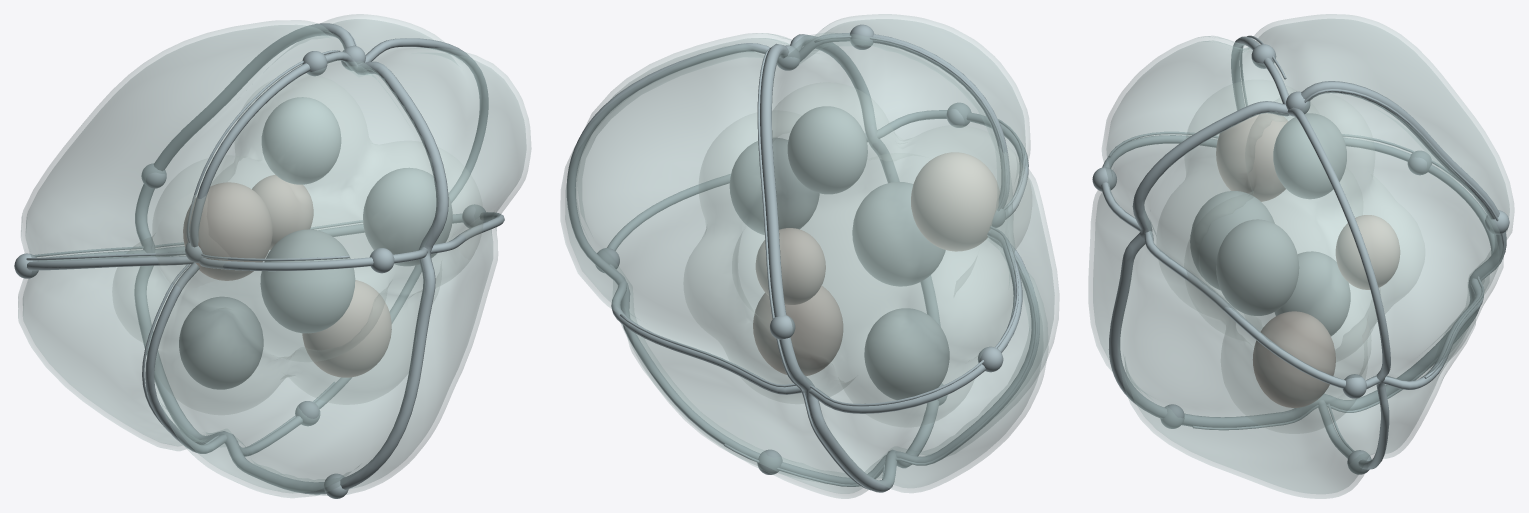
Rendered from pod_01.glb.
The picture shows the model from 3 angles, left to right: view 1: azimuth 30°, elevation 25°; view 2: azimuth 150°, elevation 25°; view 3: azimuth 270°, elevation 25°; orthographic projection. The views are drawn at different scales.
Visible parts, largest first — view 1: BZ_Pressure_Body, BZ_Continuous_Encapsulating_Tissue, BZ_Restraining_Loop_0; view 2: BZ_Pressure_Body, BZ_Continuous_Encapsulating_Tissue, BZ_Restraining_Loop_0; view 3: BZ_Pressure_Body, BZ_Restraining_Loop_0, BZ_Continuous_Encapsulating_Tissue.
Boxes of the visible parts, bbox=[...] form: BZ_Pressure_Body: bbox=[18, 14, 531, 497]; BZ_Continuous_Encapsulating_Tissue: bbox=[112, 74, 483, 414]; BZ_Restraining_Loop_0: bbox=[14, 23, 504, 498]; BZ_Pressure_Body: bbox=[560, 14, 1059, 498]; BZ_Continuous_Encapsulating_Tissue: bbox=[684, 82, 1031, 426]; BZ_Restraining_Loop_0: bbox=[566, 24, 1039, 492]; BZ_Pressure_Body: bbox=[1088, 14, 1514, 498]; BZ_Restraining_Loop_0: bbox=[1092, 35, 1509, 474]; BZ_Continuous_Encapsulating_Tissue: bbox=[1157, 80, 1424, 433].
Bounding box in the file's own units: 2 × 1.81 × 1.62.
